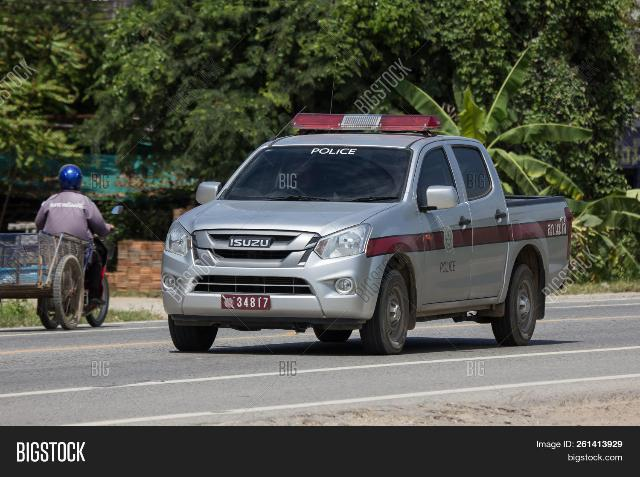pickup-truck: (163, 130, 573, 349)
